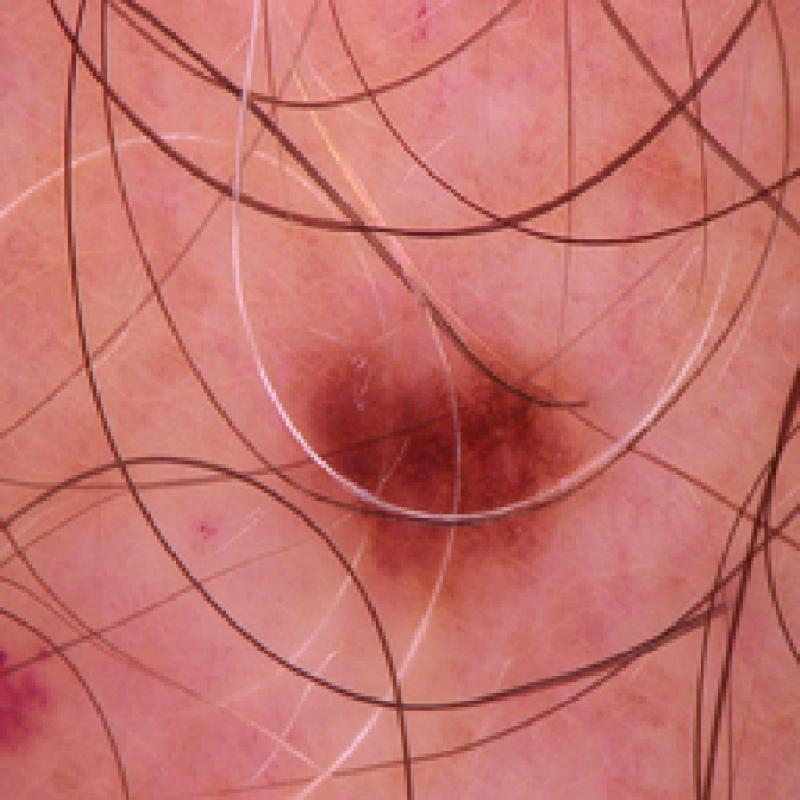benign: (249, 286, 640, 591)
